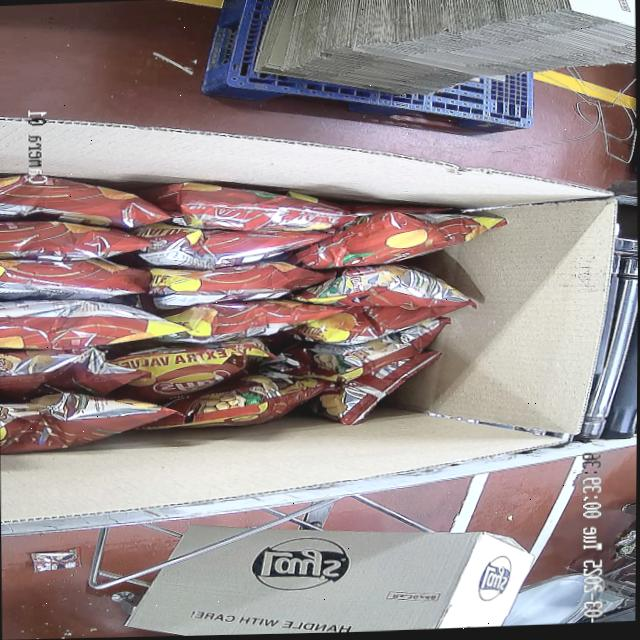MASALA: (0, 154, 510, 454)
